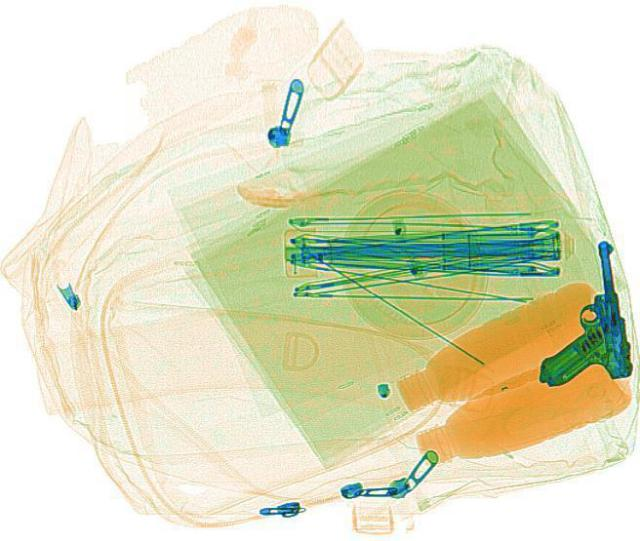Gun: (518, 237, 634, 386)
